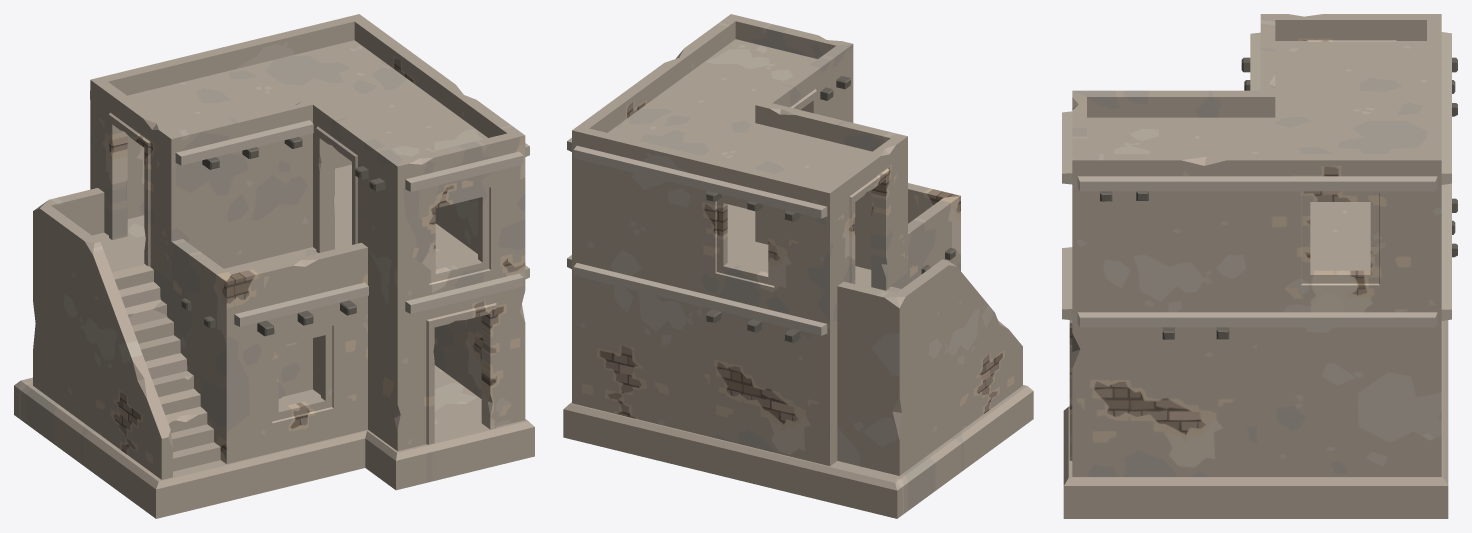
Rendered from SM_Bld_Village_House_02.glb.
3 views of the same model, side by side, from view 1: azimuth 30°, elevation 25°; view 2: azimuth 150°, elevation 25°; view 3: azimuth 270°, elevation 25° (orthographic). The views are drawn at different scales.
Visible parts, largest first — view 1: SM_Bld_Village_House_02; view 2: SM_Bld_Village_House_02; view 3: SM_Bld_Village_House_02.
Boxes of the visible parts, x1,y1,x2,y2 form: SM_Bld_Village_House_02: [14, 14, 534, 518]; SM_Bld_Village_House_02: [563, 14, 1033, 518]; SM_Bld_Village_House_02: [1062, 14, 1457, 518].
Bounding box in the file's own units: 7.81 × 6.74 × 6.8.
Materials: 1 (1 with a texture image).
